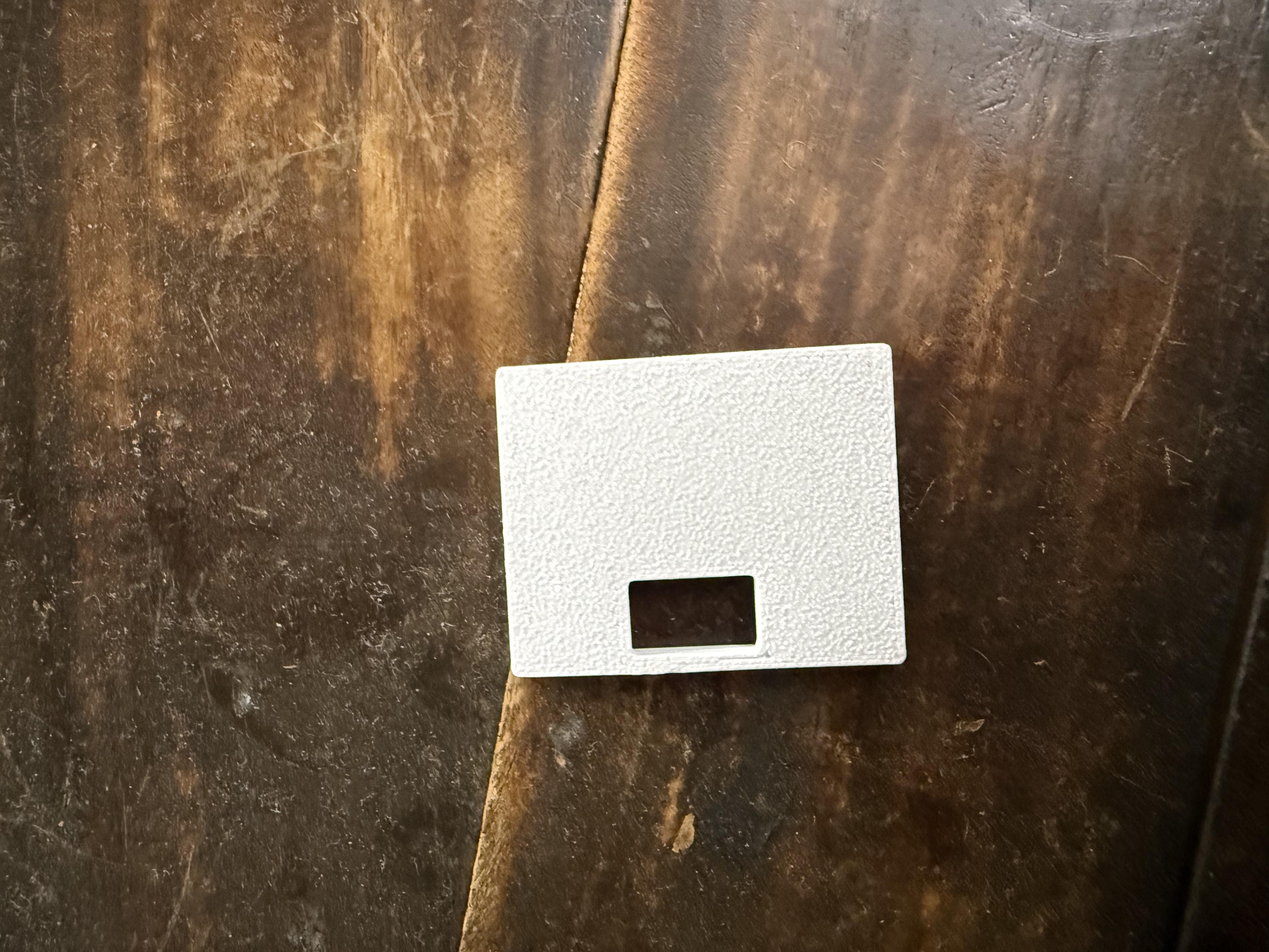enclosure: (495, 343, 906, 678)
